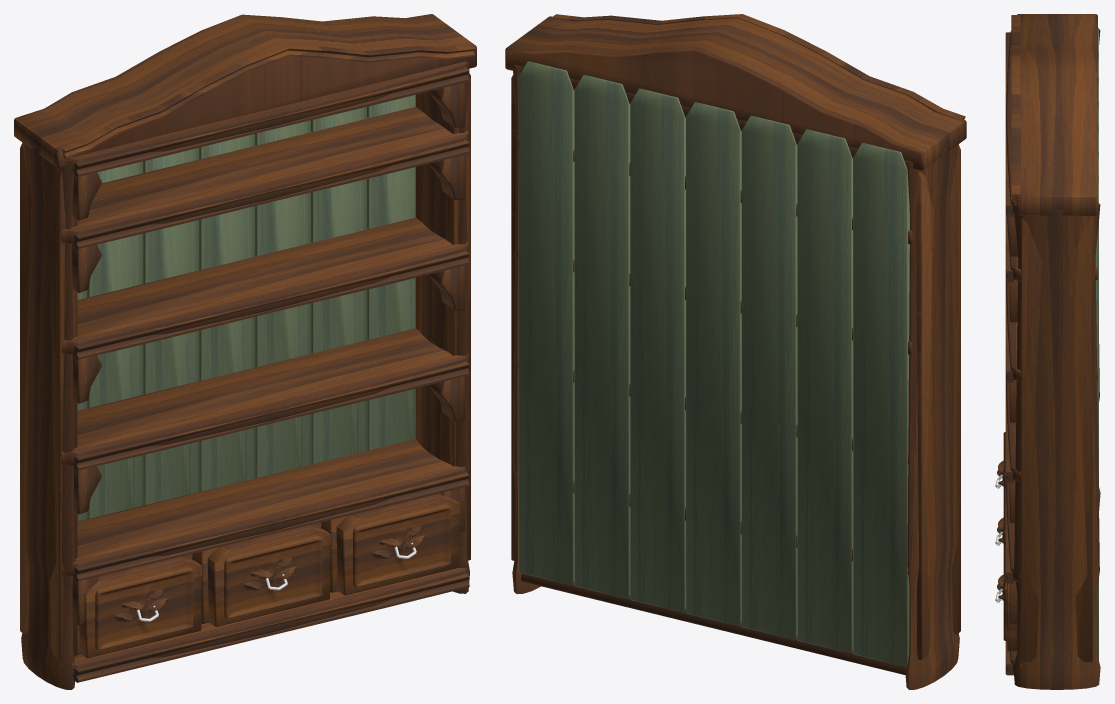
The model's file is CM_R06_MedicineShelving.fbx.
3 views of the same model, side by side, from view 1: azimuth 30°, elevation 25°; view 2: azimuth 150°, elevation 25°; view 3: azimuth 270°, elevation 25° (orthographic). The views are drawn at different scales.
Parts seen in each view (by area): view 1: CM_R06_MedicineShelving; view 2: CM_R06_MedicineShelving; view 3: CM_R06_MedicineShelving.
Part boxes in pixels (box(x1,y1,x2,y2)): CM_R06_MedicineShelving: box(14, 14, 476, 689); CM_R06_MedicineShelving: box(505, 14, 966, 689); CM_R06_MedicineShelving: box(995, 14, 1100, 689).
Bounding box in the file's own units: 1.83 × 2.45 × 0.4367.
